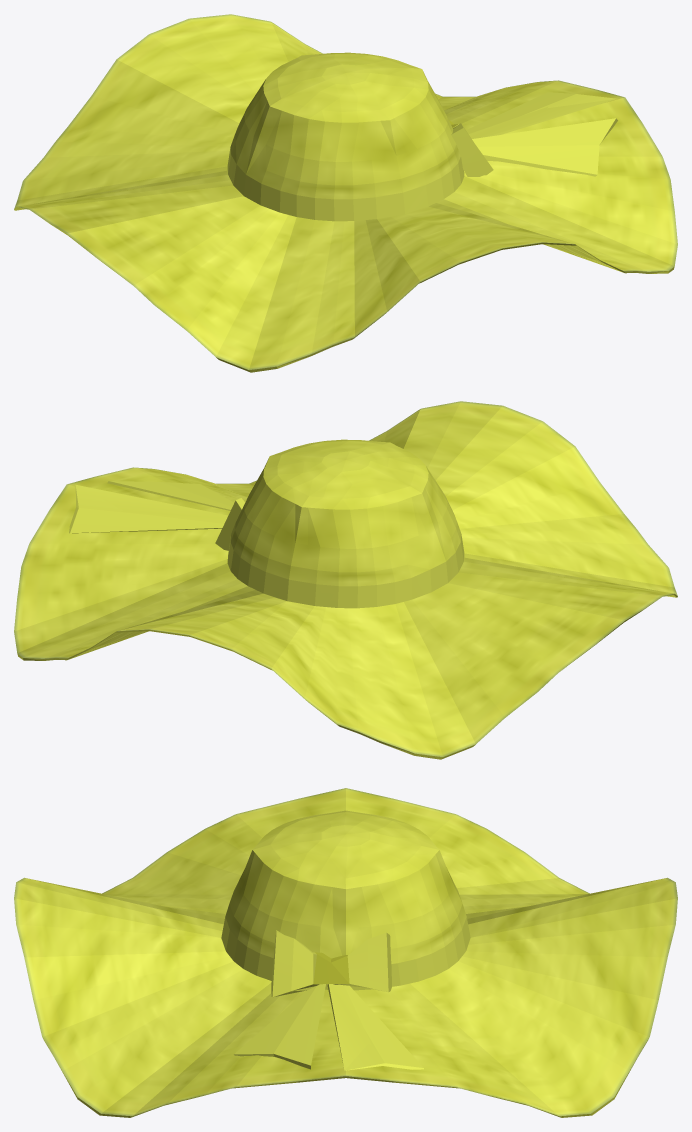
File: sunnysunhat.fbx
3 renders of one model, top to bottom at view 1: azimuth 30°, elevation 25°; view 2: azimuth 150°, elevation 25°; view 3: azimuth 270°, elevation 25°, orthographic. The views are drawn at different scales.
Visible parts, largest first — view 1: sunnysunhat; view 2: sunnysunhat; view 3: sunnysunhat.
Part boxes in pixels (x1,y1,x2,y2): sunnysunhat: (14,14,677,372); sunnysunhat: (14,401,677,759); sunnysunhat: (14,788,677,1117).
Size of the model in its own units: 80.03 by 22.3 by 77.94.
